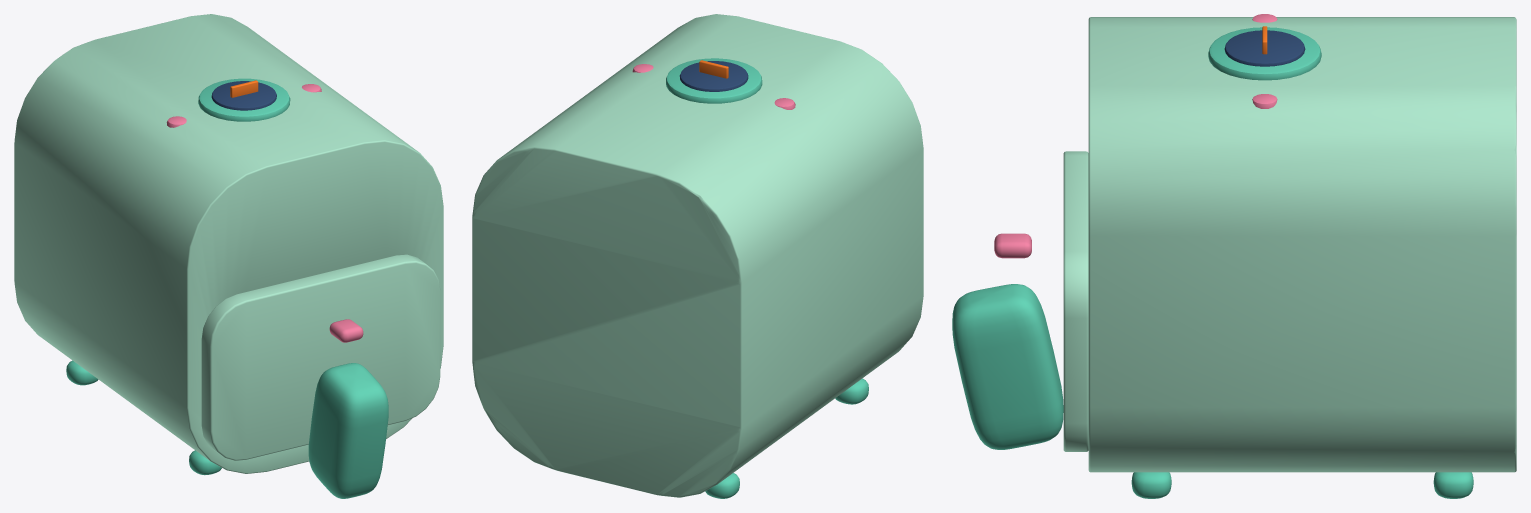
The model's file is air_fryer_menta.glb.
3 views of the same model, side by side, from view 1: azimuth 30°, elevation 25°; view 2: azimuth 150°, elevation 25°; view 3: azimuth 270°, elevation 25° (orthographic). The views are drawn at different scales.
Parts seen in each view (by area): view 1: air_fryer_menta, cesto; view 2: air_fryer_menta; view 3: air_fryer_menta, cesto.
Part boxes in pixels (box(x1,y1,x2,y2)): air_fryer_menta: box(14, 14, 443, 475); cesto: box(201, 254, 440, 498); air_fryer_menta: box(472, 14, 923, 498); air_fryer_menta: box(1088, 14, 1516, 498); cesto: box(952, 151, 1088, 451).
Size of the model in its own units: 0.29 by 0.36 by 0.4484.
Materials: 1 (1 with a texture image).
